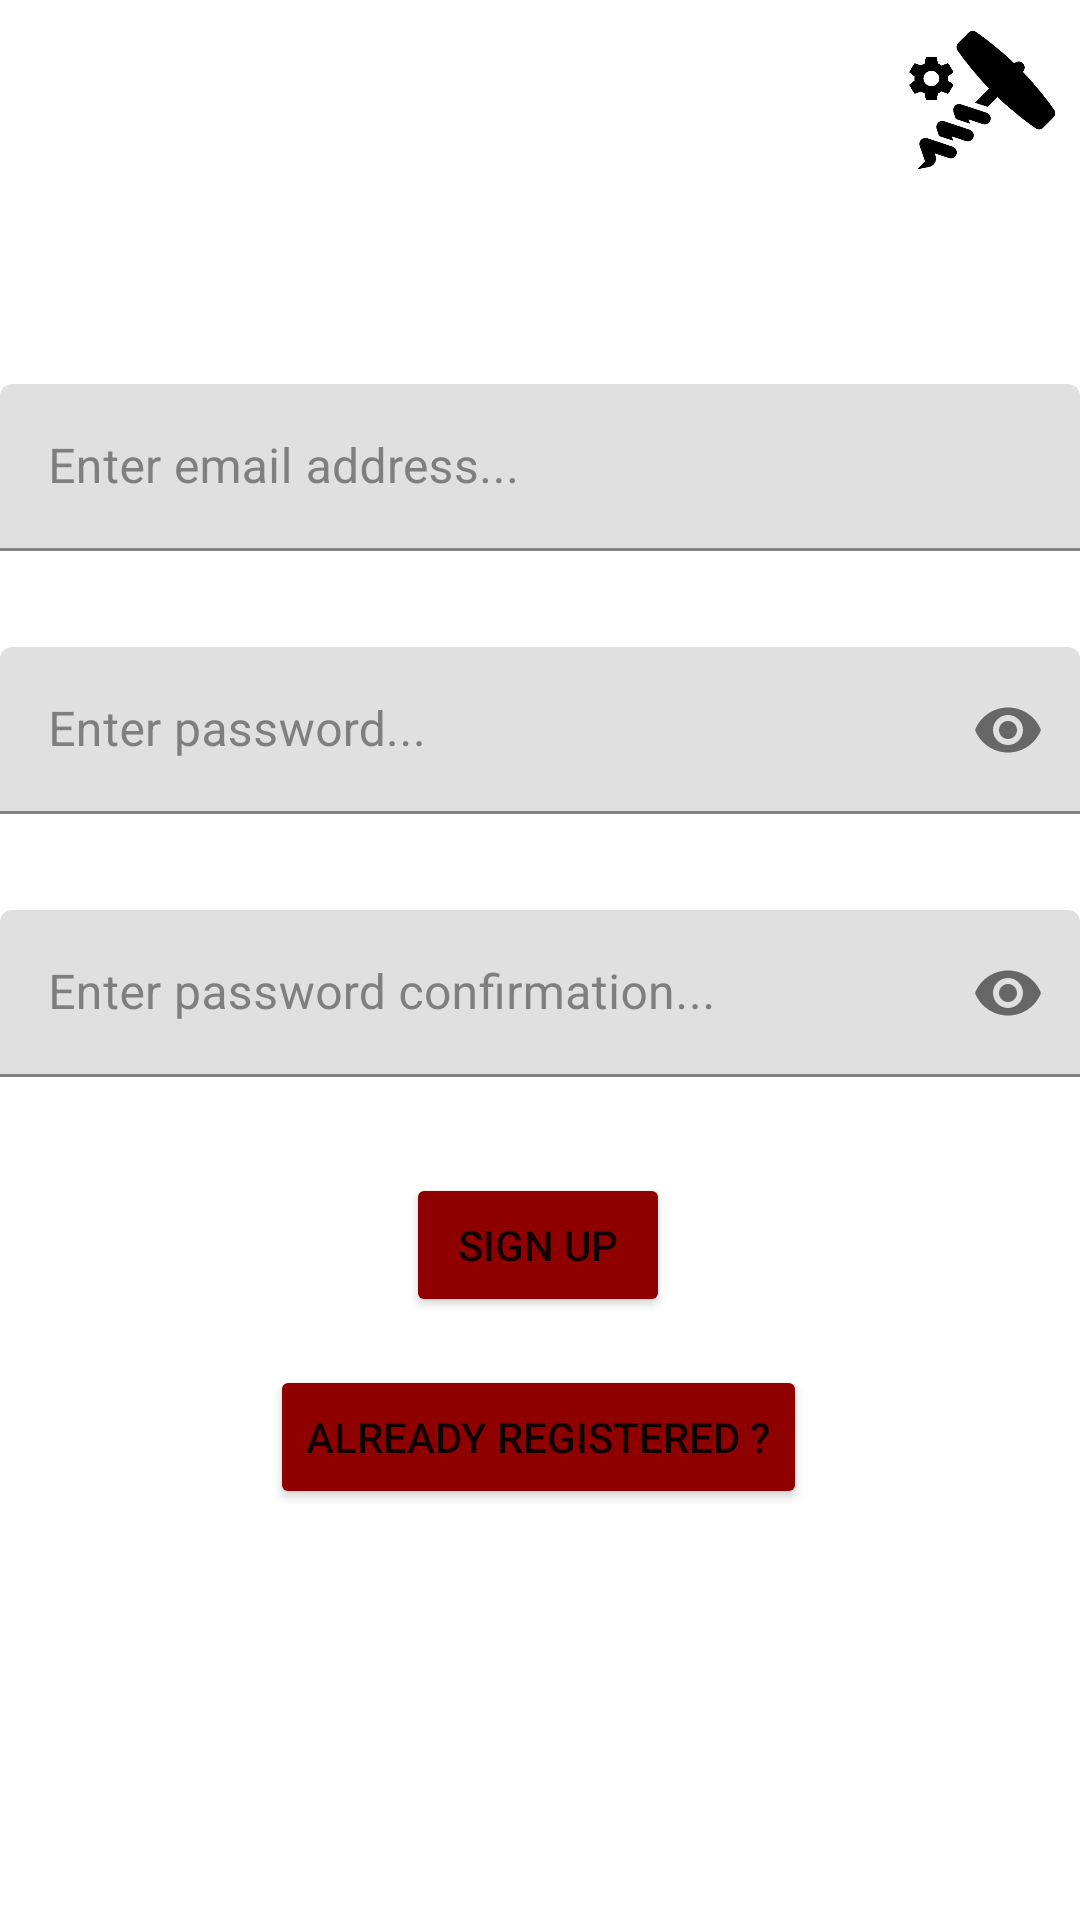

Where icons sit on this 1080w x 1920h app screen, as (x1, y1, x2, y2):
parameter: (909, 31, 1055, 169)
